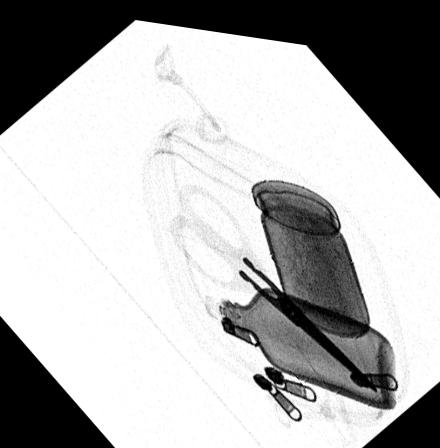Scissors: (166, 173, 376, 380)
